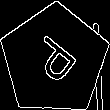P_SE: (24, 30, 85, 90)
